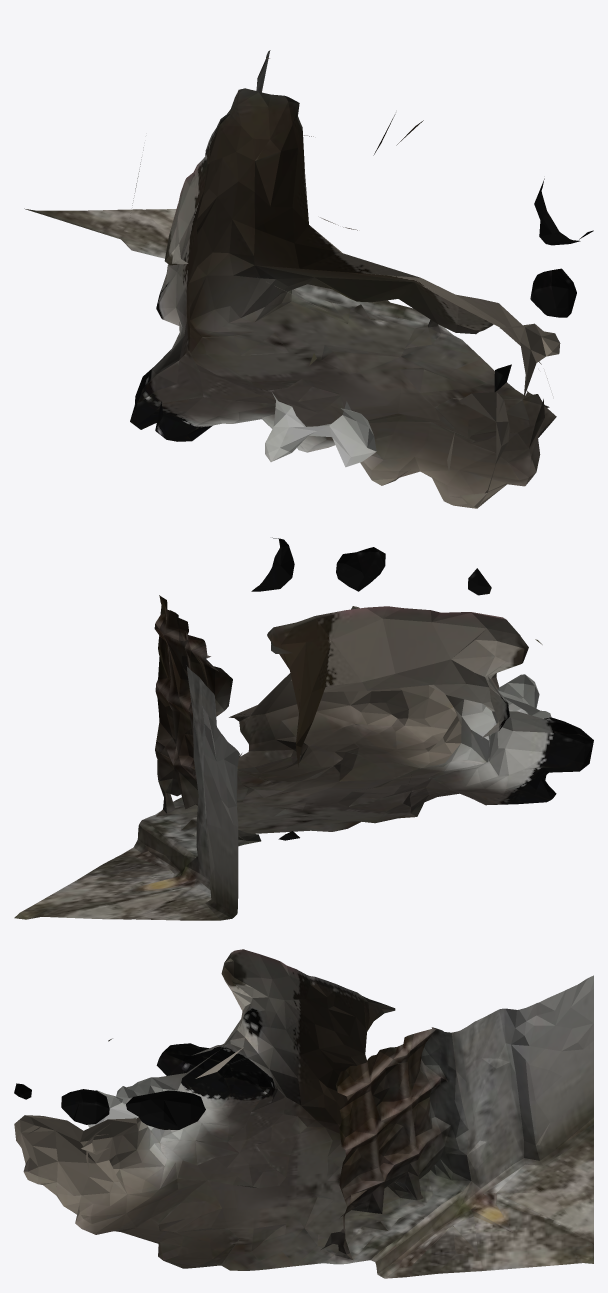
3 views of the same model, one above another, from view 1: azimuth 30°, elevation 25°; view 2: azimuth 150°, elevation 25°; view 3: azimuth 270°, elevation 25° (orthographic). The views are drawn at different scales.
Bounding box in the file's own units: 0.9694 × 0.642 × 1.63.
Materials: 3 (3 with a texture image).
